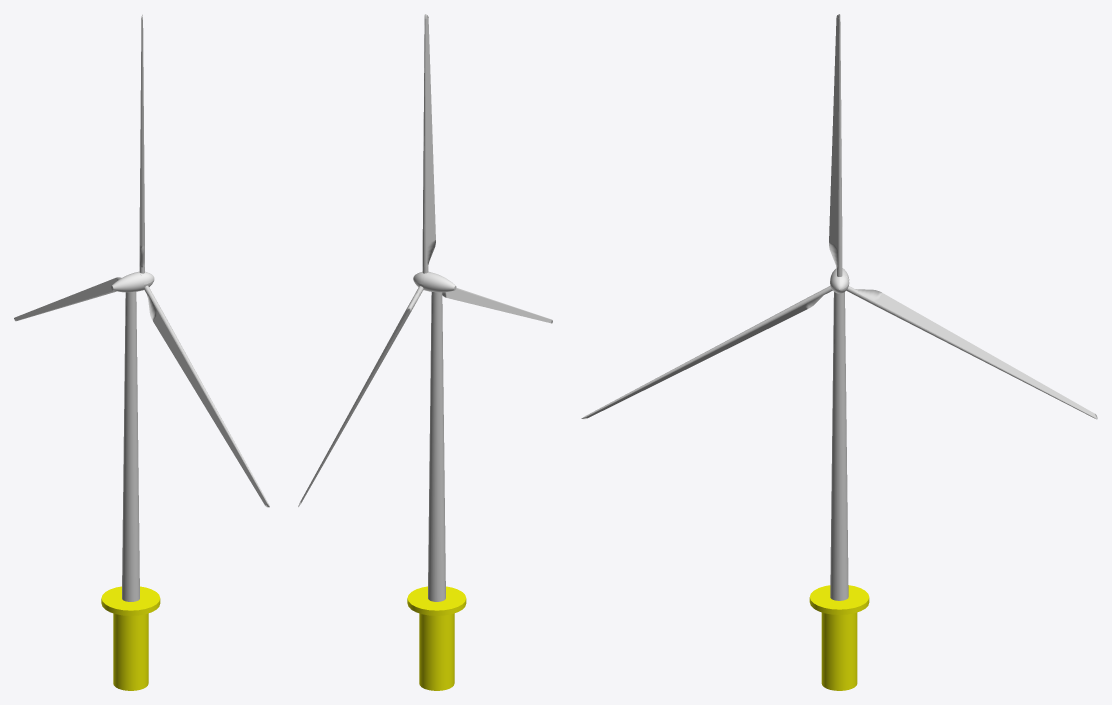
File: WKA-SG-11-200DD-HUB130m.gltf
3 views of the same model, side by side, from view 1: azimuth 30°, elevation 25°; view 2: azimuth 150°, elevation 25°; view 3: azimuth 270°, elevation 25° (orthographic).
Visible parts, largest first — view 1: SG-11-200DD TOWER, SG-11-200DD ROTOR, SG-11-200DD SOCKET, SG-11-200DD HUB; view 2: SG-11-200DD TOWER, SG-11-200DD ROTOR, SG-11-200DD SOCKET, SG-11-200DD HUB; view 3: SG-11-200DD ROTOR, SG-11-200DD TOWER, SG-11-200DD SOCKET.
Part boxes in pixels (<box>): SG-11-200DD TOWER: <box>122,291,139,601</box>; SG-11-200DD ROTOR: <box>14,14,269,507</box>; SG-11-200DD SOCKET: <box>101,586,160,690</box>; SG-11-200DD HUB: <box>111,272,143,292</box>; SG-11-200DD TOWER: <box>428,292,445,601</box>; SG-11-200DD ROTOR: <box>298,14,552,506</box>; SG-11-200DD SOCKET: <box>407,586,466,690</box>; SG-11-200DD HUB: <box>423,272,456,292</box>; SG-11-200DD ROTOR: <box>581,14,1097,419</box>; SG-11-200DD TOWER: <box>830,292,848,600</box>; SG-11-200DD SOCKET: <box>809,585,869,690</box>.
Size of the model in its own units: 20 by 250 by 173.
3 materials, 1 textured.
